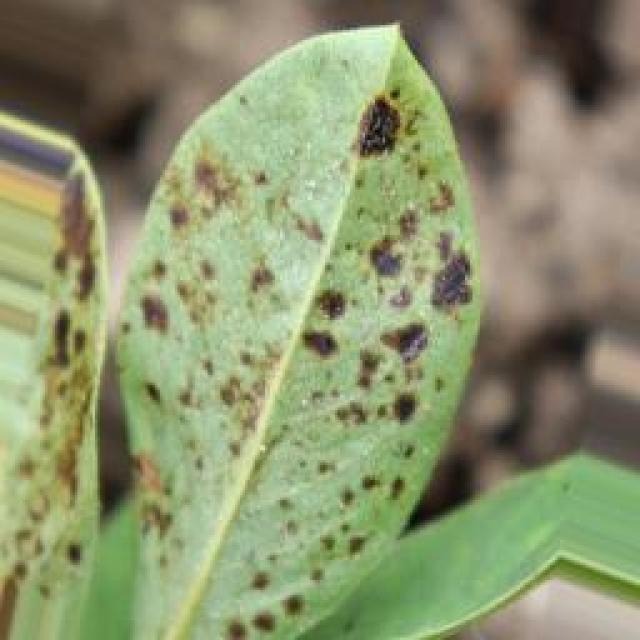Whitefly: (0, 9, 489, 614)
